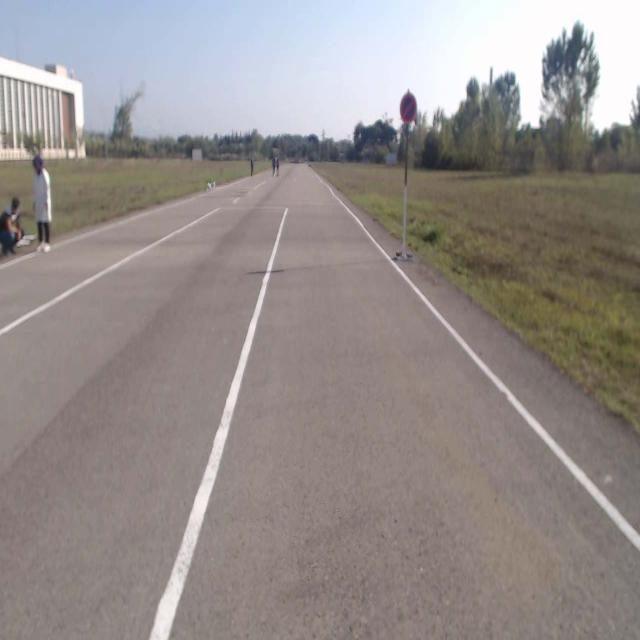parkyasak: (401, 92, 417, 124)
